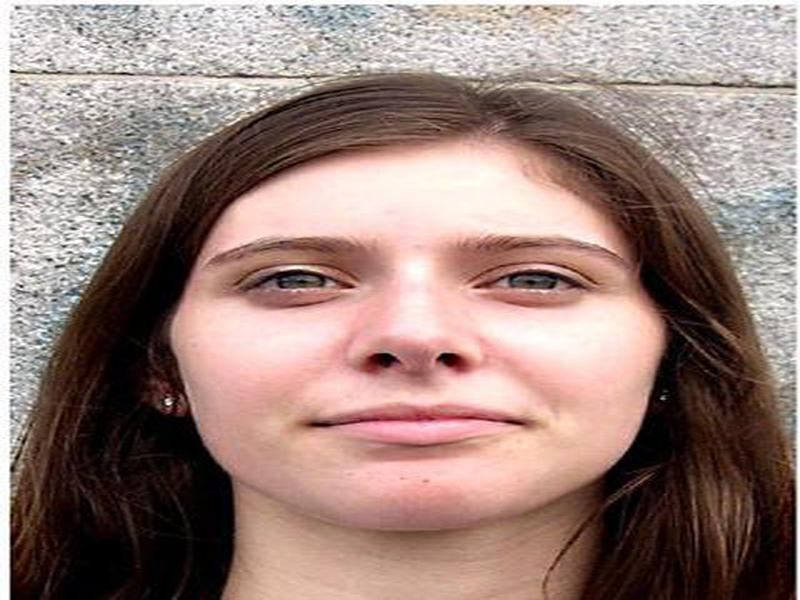without_mask: (169, 201, 665, 531)
